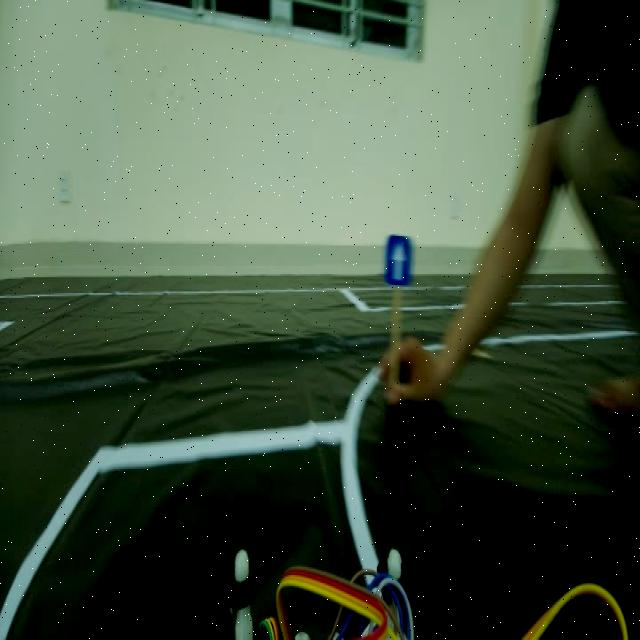onewayroad: (379, 220, 416, 295)
